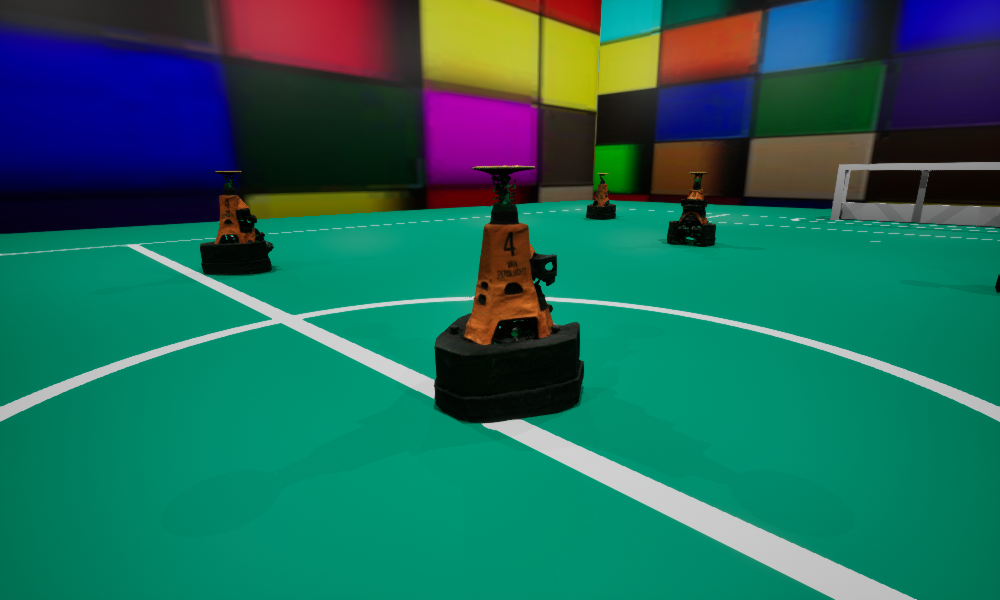o: (434, 165, 583, 422), (200, 171, 273, 274), (667, 172, 715, 245), (586, 173, 615, 219), (995, 274, 999, 292)
